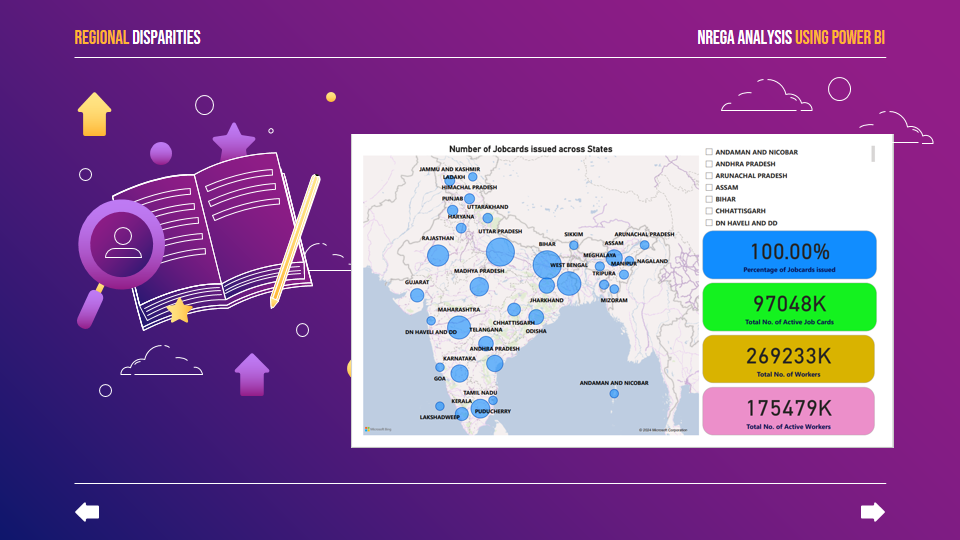

Layout of this report page (visuals, bound fields, positions):
{"tool":"powerbi","page":{"name":"Regional disparities","canvas":[1280,720],"ordinal":1},"visuals":[{"type":"map","title":"Number of Jobcards issued across States","fields":{"Category":["NREGA.state_name"],"Size":["Sum(NREGA.Total No. of JobCards issued)"]},"box":[0,0,832,720],"z":0},{"type":"slicer","fields":{"Values":["NREGA.state_name"]},"box":[832,0,432,208],"z":1000},{"type":"cardVisual","fields":{"Data":["Sum(NREGA.Total No. of Active Job Cards)"]},"box":[832,336,437,129],"z":2000},{"type":"cardVisual","fields":{"Data":["Sum(NREGA.Total No. of Active Workers)"]},"box":[832,592,432,128],"z":3000},{"type":"cardVisual","fields":{"Data":["Sum(NREGA.Total No. of Workers)"]},"box":[832,464,432,128],"z":4000},{"type":"cardVisual","fields":{"Data":["Sum(NREGA.% of Jobcard issued)"]},"box":[832,208,437,129],"z":6000}]}

Visuals, with their boxes in screenshot pixels (x1, y1, x2, y2), scaled from the page's 1280x720 canvas onto the 960x540 screenshot:
"Number of Jobcards issued across States" map: 0/0/624/539
slicer - NREGA.state_name: 624/0/948/156
cardVisual - Sum(NREGA.Total No. of Active Job Cards): 624/252/952/349
cardVisual - Sum(NREGA.Total No. of Active Workers): 624/444/948/539
cardVisual - Sum(NREGA.Total No. of Workers): 624/348/948/444
cardVisual - Sum(NREGA.% of Jobcard issued): 624/156/952/253
